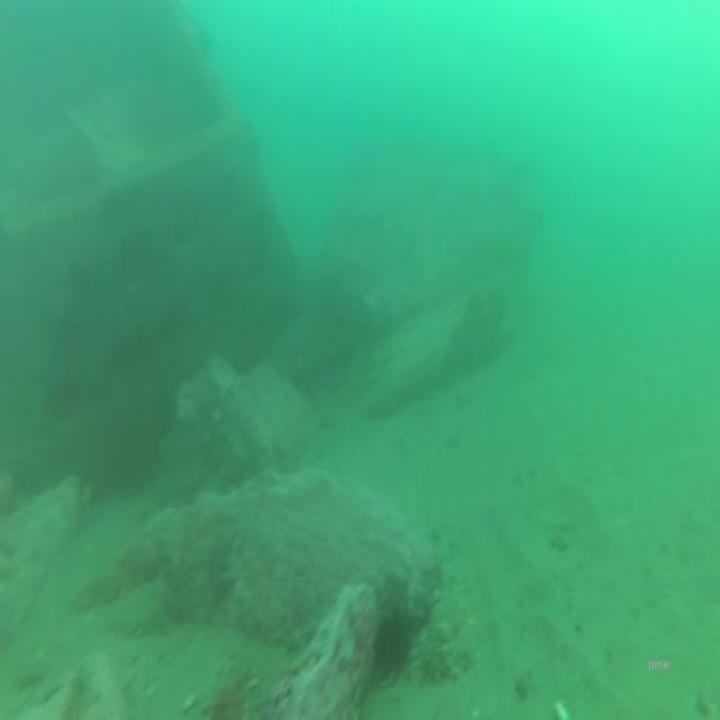echinus: (367, 603, 411, 686)
